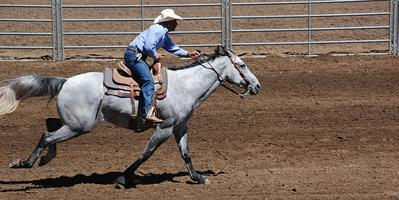person: (123, 9, 203, 124)
